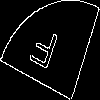F: (24, 25, 60, 80)
